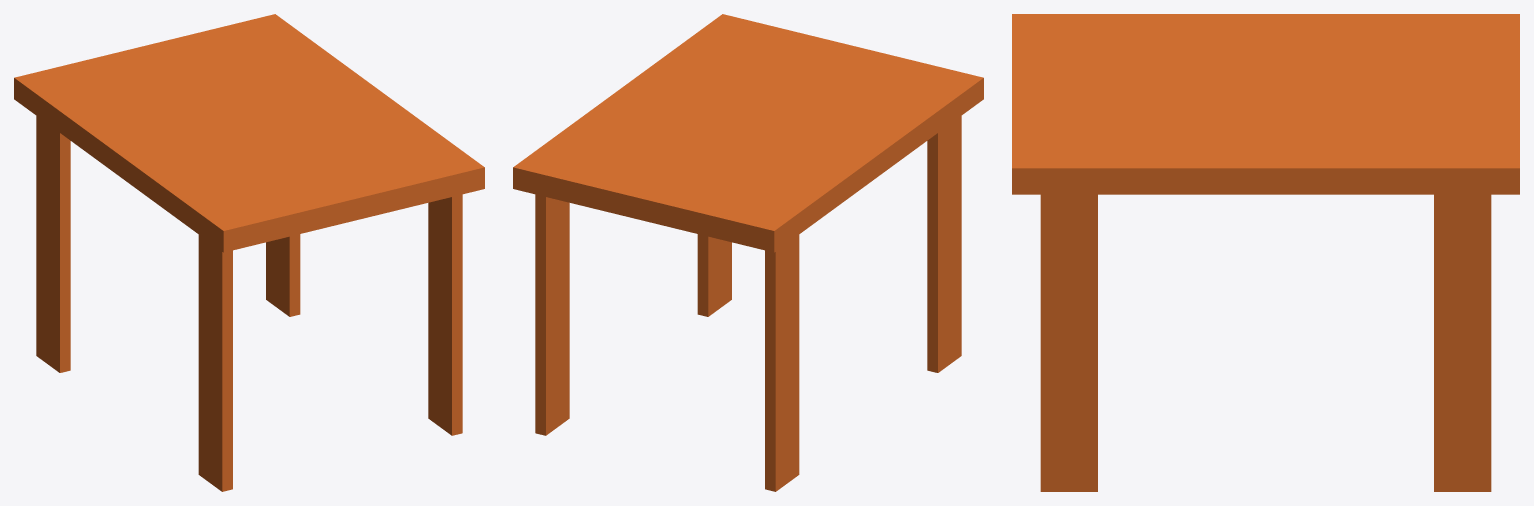
File: TABLE.glb
3 views of the same model, side by side, from view 1: azimuth 30°, elevation 25°; view 2: azimuth 150°, elevation 25°; view 3: azimuth 270°, elevation 25° (orthographic). The views are drawn at different scales.
Visible parts, largest first — view 1: Cube_color_0, Cube.003_color_0, Cube.002_color_0, Cube.004_color_0, Cube.001_color_0; view 2: Cube_color_0, Cube.002_color_0, Cube.003_color_0, Cube.001_color_0, Cube.004_color_0; view 3: Cube_color_0, Cube.001_color_0, Cube.004_color_0.
Boxes of the visible parts, x1,y1,x2,y2 form: Cube_color_0: (14,14,484,252); Cube.003_color_0: (198,235,232,491); Cube.002_color_0: (36,116,70,372); Cube.004_color_0: (428,194,462,435); Cube.001_color_0: (266,234,300,316); Cube_color_0: (513,14,983,252); Cube.002_color_0: (765,235,799,491); Cube.003_color_0: (927,116,961,372); Cube.001_color_0: (535,194,569,435); Cube.004_color_0: (697,234,731,316); Cube_color_0: (1012,14,1519,194); Cube.001_color_0: (1434,194,1491,491); Cube.004_color_0: (1040,194,1097,491).
Size of the model in its own units: 189 by 188 by 262.
